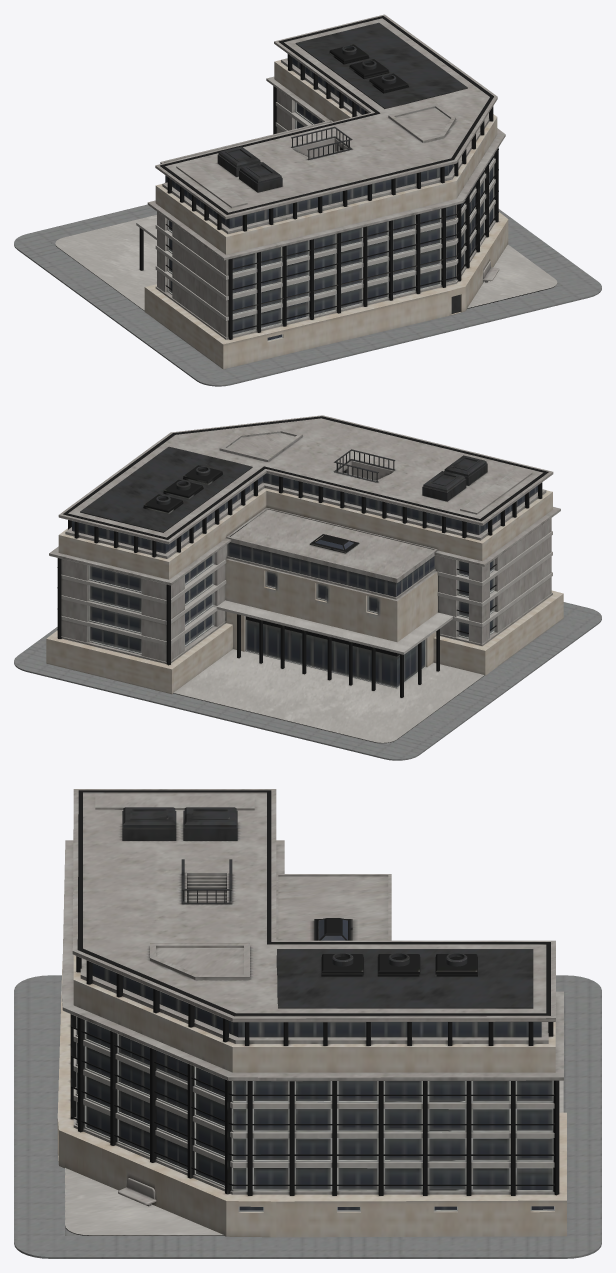
File: bld22_15.glb
3 renders of one model, top to bottom at view 1: azimuth 30°, elevation 25°; view 2: azimuth 150°, elevation 25°; view 3: azimuth 270°, elevation 25°, orthographic. The views are drawn at different scales.
Visible parts, largest first — view 1: bld22_15; view 2: bld22_15; view 3: bld22_15.
Part boxes in pixels (box(x1,y1,x2,y2)): bld22_15: box(14, 14, 601, 386); bld22_15: box(14, 415, 601, 760); bld22_15: box(14, 789, 601, 1258).
Bounding box in the file's own units: 116 × 44.56 × 102.
1 material, 1 textured.
